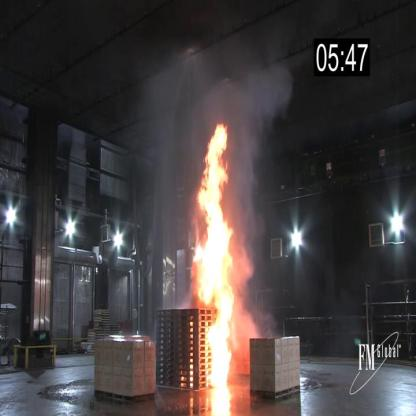fire: (194, 114, 237, 394)
